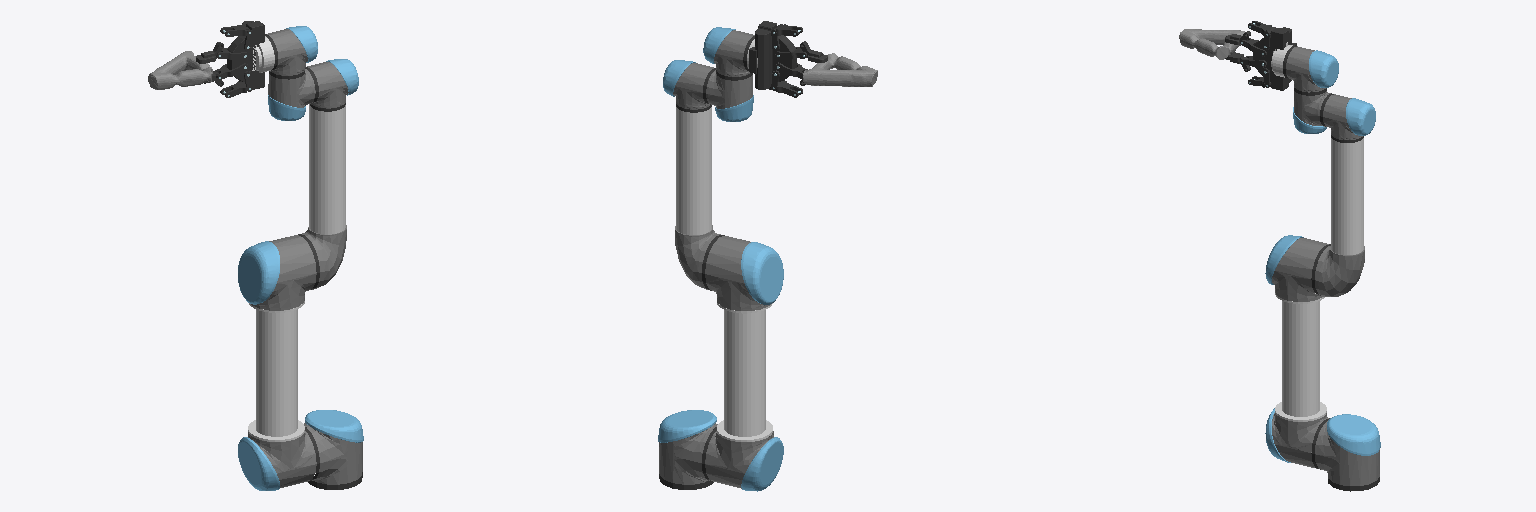
--- Render facts (derived) ---
The picture shows the robot from 3 angles, left to right: view 1: azimuth 30°, elevation 25°; view 2: azimuth 150°, elevation 25°; view 3: azimuth 330°, elevation 25°; orthographic projection.
Model robot_base_respondable with 17 links and 16 joints (10 revolute, 6 continuous), rooted at robot_base, posed every joint at zero.
Visible links, largest first — view 1: link_2_respondable_respondable_respondable_respondable_respondab, link_3_respondable_respondable_respondable_respondable_respondab, link_respondable_respondable_respondable_respondable_respondable, link_5_respondable_respondable_respondable_respondable_respondab, link_4_respondable_respondable_respondable_respondable_respondab, dynamic, robotiq_base_respondable_respondable_respondable_respondable_res; view 2: link_2_respondable_respondable_respondable_respondable_respondab, link_3_respondable_respondable_respondable_respondable_respondab, link_respondable_respondable_respondable_respondable_respondable, link_5_respondable_respondable_respondable_respondable_respondab, link_4_respondable_respondable_respondable_respondable_respondab, robotiq_base_respondable_respondable_respondable_respondable_res, dynamic; view 3: link_2_respondable_respondable_respondable_respondable_respondab, link_3_respondable_respondable_respondable_respondable_respondab, link_respondable_respondable_respondable_respondable_respondable, link_5_respondable_respondable_respondable_respondable_respondab, dynamic, link_4_respondable_respondable_respondable_respondable_respondab, robotiq_base_respondable_respondable_respondable_respondable_res.
Boxes of the visible links, x1=… form: link_2_respondable_respondable_respondable_respondable_respondab: x1=238, y1=234, x2=319, y2=490; link_3_respondable_respondable_respondable_respondable_respondab: x1=301, y1=59, x2=358, y2=289; link_respondable_respondable_respondable_respondable_respondable: x1=304, y1=410, x2=363, y2=484; link_5_respondable_respondable_respondable_respondable_respondab: x1=265, y1=26, x2=317, y2=79; link_4_respondable_respondable_respondable_respondable_respondab: x1=268, y1=67, x2=318, y2=120; dynamic: x1=148, y1=51, x2=212, y2=89; robotiq_base_respondable_respondable_respondable_respondable_res: x1=227, y1=21, x2=264, y2=89; link_2_respondable_respondable_respondable_respondable_respondab: x1=702, y1=235, x2=783, y2=491; link_3_respondable_respondable_respondable_respondable_respondab: x1=663, y1=60, x2=720, y2=289; link_respondable_respondable_respondable_respondable_respondable: x1=658, y1=410, x2=717, y2=484; link_5_respondable_respondable_respondable_respondable_respondab: x1=703, y1=27, x2=754, y2=80; link_4_respondable_respondable_respondable_respondable_respondab: x1=703, y1=67, x2=753, y2=121; robotiq_base_respondable_respondable_respondable_respondable_res: x1=749, y1=21, x2=796, y2=89; dynamic: x1=803, y1=53, x2=877, y2=86; link_2_respondable_respondable_respondable_respondable_respondab: x1=1265, y1=235, x2=1330, y2=468; link_3_respondable_respondable_respondable_respondable_respondab: x1=1315, y1=94, x2=1375, y2=296; link_respondable_respondable_respondable_respondable_respondable: x1=1311, y1=414, x2=1380, y2=485; link_5_respondable_respondable_respondable_respondable_respondab: x1=1283, y1=46, x2=1338, y2=95; dynamic: x1=1179, y1=29, x2=1244, y2=59; link_4_respondable_respondable_respondable_respondable_respondab: x1=1293, y1=91, x2=1333, y2=133; robotiq_base_respondable_respondable_respondable_respondable_res: x1=1253, y1=27, x2=1296, y2=90.
Size in the robot's own frame: 0.4927 by 0.1237 by 1.06 metres.
Meshes: 42 distinct files referenced, 42 mesh visuals loaded (42 Collada DAE).

The robot description file, URDF, robot "robot_base_respondable":
<?xml version="1.0"?>
<robot name="robot_base_respondable">
    <link name="robot_base">
        <collision name="robot_base_respondable">
            <origin xyz="0.000000 0.000000 0.000000" rpy="3.141592 3.141593 -2.552481" />
            <geometry>
                <cylinder length="0.012300089001656" radius="0.056886240839958" />
            </geometry>
        </collision>
        <collision name="robot_base_respondable">
            <origin xyz="0.000000 0.000000 -0.014650" rpy="-3.141592 3.141593 1.747927" />
            <geometry>
                <cylinder length="0.017000352963805" radius="0.072642646729946" />
            </geometry>
        </collision>
        <visual name="robot_base_visual">
            <origin xyz="0.000000 0.000000 -0.008500" rpy="3.141592 3.141593 3.141592" />
            <geometry>
                <mesh filename="models/urdf/ur5_abc_lite/ur5_abc_lite_robot_base_visual_vis_1.dae" />
            </geometry>
            <material name="robot_base_visual_material">
                <color rgba="0.282353 0.282353 0.282353 1.0" />
            </material>
        </visual>
    </link>
    <joint name="joint" type="revolute">
        <axis xyz="0 0 1" />
        <limit upper="6.2831854820251" velocity="1.5707963705063" lower="-6.2831854820251" effort="200.0" />
        <parent link="robot_base" />
        <child link="link_respondable_respondable_respondable_respondable_respondable_respondable" />
        <origin xyz="-0.000000 0.000000 0.000000" rpy="3.141592 3.141593 3.141592" />
    </joint>
    <link name="link_respondable_respondable_respondable_respondable_respondable_respondable">
        <inertial>
            <origin xyz="-0.012312 0.000048 0.066405" rpy="3.141592 3.141593 3.141592" />
            <inertia ixy="8.9516803607533e-05" ixz="0.0024490834762624" ixx="0.095492165355254" izz="0.09818059467752" iyz="-7.9251186174956e-05" iyy="0.10672965841326" />
            <mass value="2.5" />
        </inertial>
        <collision name="link_respondable_respondable_respondable_respondable_respondable_respondable">
            <origin xyz="-0.007178 0.000095 0.070381" rpy="3.141592 3.141593 3.141592" />
            <geometry>
                <mesh filename="models/urdf/ur5_abc_lite/ur5_abc_lite_link_respondable_respondable_respondable_respondable_respondable_respondable_coll_1.dae" />
            </geometry>
        </collision>
        <collision name="link_respondable_respondable_respondable_respondable_respondable_respondable">
            <origin xyz="-0.007178 0.000095 0.070381" rpy="3.141592 3.141593 3.141592" />
            <geometry>
                <mesh filename="models/urdf/ur5_abc_lite/ur5_abc_lite_link_respondable_respondable_respondable_respondable_respondable_respondable_coll_2.dae" />
            </geometry>
        </collision>
        <collision name="link_respondable_respondable_respondable_respondable_respondable_respondable">
            <origin xyz="-0.007178 0.000095 0.070381" rpy="3.141592 3.141593 3.141592" />
            <geometry>
                <mesh filename="models/urdf/ur5_abc_lite/ur5_abc_lite_link_respondable_respondable_respondable_respondable_respondable_respondable_coll_3.dae" />
            </geometry>
        </collision>
        <visual name="link_respondable_respondable_respondable_respondable_respondable_visual">
            <origin xyz="-0.007150 0.000000 0.070335" rpy="3.141592 3.141593 3.141592" />
            <geometry>
                <mesh filename="models/urdf/ur5_abc_lite/ur5_abc_lite_link_respondable_respondable_respondable_respondable_respondable_visual_vis_1.dae" />
            </geometry>
            <material name="link_respondable_respondable_respondable_respondable_respondable_visual_material">
                <color rgba="0.282353 0.282353 0.282353 1.0" />
            </material>
        </visual>
        <visual name="link_respondable_respondable_respondable_respondable_respondable_visual">
            <origin xyz="-0.007150 0.000000 0.070335" rpy="3.141592 3.141593 3.141592" />
            <geometry>
                <mesh filename="models/urdf/ur5_abc_lite/ur5_abc_lite_link_respondable_respondable_respondable_respondable_respondable_visual_vis_2.dae" />
            </geometry>
            <material name="link_respondable_respondable_respondable_respondable_respondable_visual_material">
                <color rgba="0.535294 0.535294 0.535294 1.0" />
            </material>
        </visual>
        <visual name="link_respondable_respondable_respondable_respondable_respondable_visual">
            <origin xyz="-0.007150 0.000000 0.070335" rpy="3.141592 3.141593 3.141592" />
            <geometry>
                <mesh filename="models/urdf/ur5_abc_lite/ur5_abc_lite_link_respondable_respondable_respondable_respondable_respondable_visual_vis_3.dae" />
            </geometry>
            <material name="link_respondable_respondable_respondable_respondable_respondable_visual_material">
                <color rgba="0.508235 0.761224 0.903529 1.0" />
            </material>
        </visual>
    </link>
    <joint name="joint_2" type="revolute">
        <axis xyz="0 0 1" />
        <limit upper="6.2831854820251" velocity="1.5707963705063" lower="-6.2831854820251" effort="200.0" />
        <parent link="link_respondable_respondable_respondable_respondable_respondable_respondable" />
        <child link="link_2_respondable_respondable_respondable_respondable_respondable_respondable" />
        <origin xyz="-0.070300 0.000000 0.066050" rpy="0.000001 -1.570796 0.000000" />
    </joint>
    <link name="link_2_respondable_respondable_respondable_respondable_respondable_respondable">
        <inertial>
            <origin xyz="0.215595 -0.000035 0.063573" rpy="-0.000000 1.570796 0.000000" />
            <inertia ixy="9.2431180680848e-06" ixz="-0.0052638063542259" ixx="0.62573305153059" izz="0.067345368316432" iyz="-0.00017721757850982" iyy="0.63325135224174" />
            <mass value="5.6999998092651" />
        </inertial>
        <collision name="link_2_respondable_respondable_respondable_respondable_respondable_respondable">
            <origin xyz="0.212550 -0.000115 0.064235" rpy="-0.000000 1.570796 0.000000" />
            <geometry>
                <mesh filename="models/urdf/ur5_abc_lite/ur5_abc_lite_link_2_respondable_respondable_respondable_respondable_respondable_respondable_coll_1.dae" />
            </geometry>
        </collision>
        <collision name="link_2_respondable_respondable_respondable_respondable_respondable_respondable">
            <origin xyz="0.212550 -0.000115 0.064235" rpy="-0.000000 1.570796 0.000000" />
            <geometry>
                <mesh filename="models/urdf/ur5_abc_lite/ur5_abc_lite_link_2_respondable_respondable_respondable_respondable_respondable_respondable_coll_2.dae" />
            </geometry>
        </collision>
        <collision name="link_2_respondable_respondable_respondable_respondable_respondable_respondable">
            <origin xyz="0.212550 -0.000115 0.064235" rpy="-0.000000 1.570796 0.000000" />
            <geometry>
                <mesh filename="models/urdf/ur5_abc_lite/ur5_abc_lite_link_2_respondable_respondable_respondable_respondable_respondable_respondable_coll_3.dae" />
            </geometry>
        </collision>
        <collision name="link_2_respondable_respondable_respondable_respondable_respondable_respondable">
            <origin xyz="0.212550 -0.000115 0.064235" rpy="-0.000000 1.570796 0.000000" />
            <geometry>
                <mesh filename="models/urdf/ur5_abc_lite/ur5_abc_lite_link_2_respondable_respondable_respondable_respondable_respondable_respondable_coll_4.dae" />
            </geometry>
        </collision>
        <collision name="link_2_respondable_respondable_respondable_respondable_respondable_respondable">
            <origin xyz="0.212550 -0.000115 0.064235" rpy="-0.000000 1.570796 0.000000" />
            <geometry>
                <mesh filename="models/urdf/ur5_abc_lite/ur5_abc_lite_link_2_respondable_respondable_respondable_respondable_respondable_respondable_coll_5.dae" />
            </geometry>
        </collision>
        <collision name="link_2_respondable_respondable_respondable_respondable_respondable_respondable">
            <origin xyz="0.212550 -0.000115 0.064235" rpy="-0.000000 1.570796 0.000000" />
            <geometry>
                <mesh filename="models/urdf/ur5_abc_lite/ur5_abc_lite_link_2_respondable_respondable_respondable_respondable_respondable_respondable_coll_6.dae" />
            </geometry>
        </collision>
        <collision name="link_2_respondable_respondable_respondable_respondable_respondable_respondable">
            <origin xyz="0.212550 -0.000115 0.064235" rpy="-0.000000 1.570796 0.000000" />
            <geometry>
                <mesh filename="models/urdf/ur5_abc_lite/ur5_abc_lite_link_2_respondable_respondable_respondable_respondable_respondable_respondable_coll_7.dae" />
            </geometry>
        </collision>
        <visual name="link_2_respondable_respondable_respondable_respondable_respondable_visual">
            <origin xyz="0.212550 0.000000 0.064217" rpy="-0.000000 1.570796 0.000000" />
            <geometry>
                <mesh filename="models/urdf/ur5_abc_lite/ur5_abc_lite_link_2_respondable_respondable_respondable_respondable_respondable_visual_vis_1.dae" />
            </geometry>
            <material name="link_2_respondable_respondable_respondable_respondable_respondable_visual_material">
                <color rgba="0.870588 0.870588 0.870588 1.0" />
            </material>
        </visual>
        <visual name="link_2_respondable_respondable_respondable_respondable_respondable_visual">
            <origin xyz="0.212550 0.000000 0.064217" rpy="-0.000000 1.570796 0.000000" />
            <geometry>
                <mesh filename="models/urdf/ur5_abc_lite/ur5_abc_lite_link_2_respondable_respondable_respondable_respondable_respondable_visual_vis_2.dae" />
            </geometry>
            <material name="link_2_respondable_respondable_respondable_respondable_respondable_visual_material">
                <color rgba="0.508235 0.761224 0.903529 1.0" />
            </material>
        </visual>
        <visual name="link_2_respondable_respondable_respondable_respondable_respondable_visual">
            <origin xyz="0.212550 0.000000 0.064217" rpy="-0.000000 1.570796 0.000000" />
            <geometry>
                <mesh filename="models/urdf/ur5_abc_lite/ur5_abc_lite_link_2_respondable_respondable_respondable_respondable_respondable_visual_vis_3.dae" />
            </geometry>
            <material name="link_2_respondable_respondable_respondable_respondable_respondable_visual_material">
                <color rgba="0.535294 0.535294 0.535294 1.0" />
            </material>
        </visual>
        <visual name="link_2_respondable_respondable_respondable_respondable_respondable_visual">
            <origin xyz="0.212550 0.000000 0.064217" rpy="-0.000000 1.570796 0.000000" />
            <geometry>
                <mesh filename="models/urdf/ur5_abc_lite/ur5_abc_lite_link_2_respondable_respondable_respondable_respondable_respondable_visual_vis_4.dae" />
            </geometry>
            <material name="link_2_respondable_respondable_respondable_respondable_respondable_visual_material">
                <color rgba="0.282353 0.282353 0.282353 1.0" />
            </material>
        </visual>
        <visual name="link_2_respondable_respondable_respondable_respondable_respondable_visual">
            <origin xyz="0.212550 0.000000 0.064217" rpy="-0.000000 1.570796 0.000000" />
            <geometry>
                <mesh filename="models/urdf/ur5_abc_lite/ur5_abc_lite_link_2_respondable_respondable_respondable_respondable_respondable_visual_vis_5.dae" />
            </geometry>
            <material name="link_2_respondable_respondable_respondable_respondable_respondable_visual_material">
                <color rgba="0.535294 0.535294 0.535294 1.0" />
            </material>
        </visual>
        <visual name="link_2_respondable_respondable_respondable_respondable_respondable_visual">
            <origin xyz="0.212550 0.000000 0.064217" rpy="-0.000000 1.570796 0.000000" />
            <geometry>
                <mesh filename="models/urdf/ur5_abc_lite/ur5_abc_lite_link_2_respondable_respondable_respondable_respondable_respondable_visual_vis_6.dae" />
            </geometry>
            <material name="link_2_respondable_respondable_respondable_respondable_respondable_visual_material">
                <color rgba="0.508235 0.761224 0.903529 1.0" />
            </material>
        </visual>
    </link>
    <joint name="joint_3" type="revolute">
        <axis xyz="0 0 1" />
        <limit upper="6.2831854820251" velocity="1.5707963705063" lower="-6.2831854820251" effort="200.0" />
        <parent link="link_2_respondable_respondable_respondable_respondable_respondable_respondable" />
        <child link="link_3_respondable_respondable_respondable_respondable_respondable_respondable" />
        <origin xyz="0.425100 -0.000000 0.000000" rpy="3.141593 3.141592 3.141592" />
    </joint>
    <link name="link_3_respondable_respondable_respondable_respondable_respondable_respondable">
        <inertial>
            <origin xyz="0.192773 0.000015 -0.050153" rpy="0.000000 1.570796 0.000000" />
            <inertia ixy="2.2187787147887e-06" ixz="-0.027670910392482" ixx="0.4592564485459" izz="0.035597955537677" iyz="-2.1029099787318e-05" iyy="0.46060709235019" />
            <mass value="3.9000000953674" />
        </inertial>
        <collision name="link_3_respondable_respondable_respondable_respondable_respondable_respondable">
            <origin xyz="0.186773 0.000016 -0.057847" rpy="0.000000 1.570796 0.000000" />
            <geometry>
                <mesh filename="models/urdf/ur5_abc_lite/ur5_abc_lite_link_3_respondable_respondable_respondable_respondable_respondable_respondable_coll_1.dae" />
            </geometry>
        </collision>
        <collision name="link_3_respondable_respondable_respondable_respondable_respondable_respondable">
            <origin xyz="0.186773 0.000016 -0.057847" rpy="0.000000 1.570796 0.000000" />
            <geometry>
                <mesh filename="models/urdf/ur5_abc_lite/ur5_abc_lite_link_3_respondable_respondable_respondable_respondable_respondable_respondable_coll_2.dae" />
            </geometry>
        </collision>
        <collision name="link_3_respondable_respondable_respondable_respondable_respondable_respondable">
            <origin xyz="0.186773 0.000016 -0.057847" rpy="0.000000 1.570796 0.000000" />
            <geometry>
                <mesh filename="models/urdf/ur5_abc_lite/ur5_abc_lite_link_3_respondable_respondable_respondable_respondable_respondable_respondable_coll_3.dae" />
            </geometry>
        </collision>
        <collision name="link_3_respondable_respondable_respondable_respondable_respondable_respondable">
            <origin xyz="0.186773 0.000016 -0.057847" rpy="0.000000 1.570796 0.000000" />
            <geometry>
                <mesh filename="models/urdf/ur5_abc_lite/ur5_abc_lite_link_3_respondable_respondable_respondable_respondable_respondable_respondable_coll_4.dae" />
            </geometry>
        </collision>
        <collision name="link_3_respondable_respondable_respondable_respondable_respondable_respondable">
            <origin xyz="0.186773 0.000016 -0.057847" rpy="0.000000 1.570796 0.000000" />
            <geometry>
                <mesh filename="models/urdf/ur5_abc_lite/ur5_abc_lite_link_3_respondable_respondable_respondable_respondable_respondable_respondable_coll_5.dae" />
            </geometry>
        </collision>
        <visual name="link_3_respondable_respondable_respondable_respondable_respondable_visual">
            <origin xyz="0.186650 -0.000000 -0.057850" rpy="0.000000 1.570796 0.000000" />
            <geometry>
                <mesh filename="models/urdf/ur5_abc_lite/ur5_abc_lite_link_3_respondable_respondable_respondable_respondable_respondable_visual_vis_1.dae" />
            </geometry>
            <material name="link_3_respondable_respondable_respondable_respondable_respondable_visual_material">
                <color rgba="0.870588 0.870588 0.870588 1.0" />
            </material>
        </visual>
        <visual name="link_3_respondable_respondable_respondable_respondable_respondable_visual">
            <origin xyz="0.186650 -0.000000 -0.057850" rpy="0.000000 1.570796 0.000000" />
            <geometry>
                <mesh filename="models/urdf/ur5_abc_lite/ur5_abc_lite_link_3_respondable_respondable_respondable_respondable_respondable_visual_vis_2.dae" />
            </geometry>
            <material name="link_3_respondable_respondable_respondable_respondable_respondable_visual_material">
                <color rgba="0.535294 0.535294 0.535294 1.0" />
            </material>
        </visual>
        <visual name="link_3_respondable_respondable_respondable_respondable_respondable_visual">
            <origin xyz="0.186650 -0.000000 -0.057850" rpy="0.000000 1.570796 0.000000" />
            <geometry>
                <mesh filename="models/urdf/ur5_abc_lite/ur5_abc_lite_link_3_respondable_respondable_respondable_respondable_respondable_visual_vis_3.dae" />
            </geometry>
            <material name="link_3_respondable_respondable_respondable_respondable_respondable_visual_material">
                <color rgba="0.508235 0.761224 0.903529 1.0" />
            </material>
        </visual>
        <visual name="link_3_respondable_respondable_respondable_respondable_respondable_visual">
            <origin xyz="0.186650 -0.000000 -0.057850" rpy="0.000000 1.570796 0.000000" />
            <geometry>
                <mesh filename="models/urdf/ur5_abc_lite/ur5_abc_lite_link_3_respondable_respondable_respondable_respondable_respondable_visual_vis_4.dae" />
            </geometry>
            <material name="link_3_respondable_respondable_respondable_respondable_respondable_visual_material">
                <color rgba="0.282353 0.282353 0.282353 1.0" />
            </material>
        </visual>
        <visual name="link_3_respondable_respondable_respondable_respondable_respondable_visual">
            <origin xyz="0.186650 -0.000000 -0.057850" rpy="0.000000 1.570796 0.000000" />
            <geometry>
                <mesh filename="models/urdf/ur5_abc_lite/ur5_abc_lite_link_3_respondable_respondable_respondable_respondable_respondable_visual_vis_5.dae" />
            </geometry>
            <material name="link_3_respondable_respondable_respondable_respondable_respondable_visual_material">
                <color rgba="0.535294 0.535294 0.535294 1.0" />
            </material>
        </visual>
    </link>
    <joint name="joint_4" type="revolute">
        <axis xyz="0 0 1" />
        <limit upper="6.2831854820251" velocity="1.5707963705063" lower="-6.2831854820251" effort="200.0" />
        <parent link="link_3_respondable_respondable_respondable_respondable_respondable_respondable" />
        <child link="link_4_respondable_respondable_respondable_respondable_respondable_respondable" />
        <origin xyz="0.392150 -0.000000 0.000000" rpy="3.141593 3.141592 3.141592" />
    </joint>
    <link name="link_4_respondable_respondable_respondable_respondable_respondable_respondable">
        <inertial>
            <origin xyz="-0.005517 -0.000003 0.030943" rpy="0.000000 1.570796 0.000000" />
            <inertia ixy="3.1976010243315e-06" ixz="-0.0020900872562349" ixx="0.10017005794782" izz="0.087106483494915" iyz="-1.791527123899e-05" iyy="0.11466452218562" />
            <mass value="2.5" />
        </inertial>
        <collision name="link_4_respondable_respondable_respondable_respondable_respondable_respondable">
            <origin xyz="-0.007501 -0.000045 0.032830" rpy="0.000000 1.570796 0.000000" />
            <geometry>
                <mesh filename="models/urdf/ur5_abc_lite/ur5_abc_lite_link_4_respondable_respondable_respondable_respondable_respondable_respondable_coll_1.dae" />
            </geometry>
        </collision>
        <collision name="link_4_respondable_respondable_respondable_respondable_respondable_respondable">
            <origin xyz="-0.007501 -0.000045 0.032830" rpy="0.000000 1.570796 0.000000" />
            <geometry>
                <mesh filename="models/urdf/ur5_abc_lite/ur5_abc_lite_link_4_respondable_respondable_respondable_respondable_respondable_respondable_coll_2.dae" />
            </geometry>
        </collision>
        <collision name="link_4_respondable_respondable_respondable_respondable_respondable_respondable">
            <origin xyz="-0.007501 -0.000045 0.032830" rpy="0.000000 1.570796 0.000000" />
            <geometry>
                <mesh filename="models/urdf/ur5_abc_lite/ur5_abc_lite_link_4_respondable_respondable_respondable_respondable_respondable_respondable_coll_3.dae" />
            </geometry>
        </collision>
        <visual name="link_4_respondable_respondable_respondable_respondable_respondable_visual">
            <origin xyz="-0.007500 0.000000 0.032800" rpy="0.000000 1.570796 0.000000" />
            <geometry>
                <mesh filename="models/urdf/ur5_abc_lite/ur5_abc_lite_link_4_respondable_respondable_respondable_respondable_respondable_visual_vis_1.dae" />
            </geometry>
            <material name="link_4_respondable_respondable_respondable_respondable_respondable_visual_material">
                <color rgba="0.282353 0.282353 0.282353 1.0" />
            </material>
        </visual>
        <visual name="link_4_respondable_respondable_respondable_respondable_respondable_visual">
            <origin xyz="-0.007500 0.000000 0.032800" rpy="0.000000 1.570796 0.000000" />
            <geometry>
                <mesh filename="models/urdf/ur5_abc_lite/ur5_abc_lite_link_4_respondable_respondable_respondable_respondable_respondable_visual_vis_2.dae" />
            </geometry>
            <material name="link_4_respondable_respondable_respondable_respondable_respondable_visual_material">
                <color rgba="0.535294 0.535294 0.535294 1.0" />
            </material>
        </visual>
        <visual name="link_4_respondable_respondable_respondable_respondable_respondable_visual">
            <origin xyz="-0.007500 0.000000 0.032800" rpy="0.000000 1.570796 0.000000" />
            <geometry>
                <mesh filename="models/urdf/ur5_abc_lite/ur5_abc_lite_link_4_respondable_respondable_respondable_respondable_respondable_visual_vis_3.dae" />
            </geometry>
            <material name="link_4_respondable_respondable_respondable_respondable_respondable_visual_material">
                <color rgba="0.508235 0.761224 0.903529 1.0" />
            </material>
        </visual>
    </link>
    <joint name="joint_5" type="revolute">
        <axis xyz="0 0 1" />
        <limit upper="6.2831854820251" velocity="1.5707963705063" lower="-6.2831854820251" effort="200.0" />
        <parent link="link_4_respondable_respondable_respondable_respondable_respondable_respondable" />
        <child link="link_5_respondable_respondable_respondable_respondable_respondable_respondable" />
        <origin xyz="0.045575 -0.000000 0.039700" rpy="2.596272 1.570799 2.596272" />
    </joint>
    <link name="link_5_respondable_respondable_respondable_respondable_respondable_respondable">
        <inertial>
            <origin xyz="0.002100 0.000002 0.040669" rpy="3.141592 3.141593 3.141592" />
            <inertia ixy="-1.5531769026879e-05" ixz="-0.00073245390311674" ixx="0.08179215416809" izz="0.1041509279002" iyz="3.8714712477568e-06" iyy="0.11739579576874" />
            <mass value="2.5" />
        </inertial>
        <collision name="link_5_respondable_respondable_respondable_respondable_respondable_respondable">
            <origin xyz="0.003601 0.000045 0.042305" rpy="3.141592 3.141593 3.141592" />
            <geometry>
                <mesh filename="models/urdf/ur5_abc_lite/ur5_abc_lite_link_5_respondable_respondable_respondable_respondable_respondable_respondable_coll_1.dae" />
            </geometry>
        </collision>
        <collision name="link_5_respondable_respondable_respondable_respondable_respondable_respondable">
            <origin xyz="0.003601 0.000045 0.042305" rpy="3.141592 3.141593 3.141592" />
            <geometry>
                <mesh filename="models/urdf/ur5_abc_lite/ur5_abc_lite_link_5_respondable_respondable_respondable_respondable_respondable_respondable_coll_2.dae" />
            </geometry>
        </collision>
        <collision name="link_5_respondable_respondable_respondable_respondable_respondable_respondable">
            <origin xyz="0.003601 0.000045 0.042305" rpy="3.141592 3.141593 3.141592" />
            <geometry>
                <mesh filename="models/urdf/ur5_abc_lite/ur5_abc_lite_link_5_respondable_respondable_respondable_respondable_respondable_respondable_coll_3.dae" />
            </geometry>
        </collision>
        <visual name="link_5_respondable_respondable_respondable_respondable_respondable_visual">
            <origin xyz="0.003600 -0.000000 0.042275" rpy="3.141592 3.141593 3.141592" />
            <geometry>
                <mesh filename="models/urdf/ur5_abc_lite/ur5_abc_lite_link_5_respondable_respondable_respondable_respondable_respondable_visual_vis_1.dae" />
            </geometry>
            <material name="link_5_respondable_respondable_respondable_respondable_respondable_visual_material">
                <color rgba="0.535294 0.535294 0.535294 1.0" />
            </material>
        </visual>
        <visual name="link_5_respondable_respondable_respondable_respondable_respondable_visual">
            <origin xyz="0.003600 -0.000000 0.042275" rpy="3.141592 3.141593 3.141592" />
            <geometry>
                <mesh filename="models/urdf/ur5_abc_lite/ur5_abc_lite_link_5_respondable_respondable_respondable_respondable_respondable_visual_vis_2.dae" />
            </geometry>
            <material name="link_5_respondable_respondable_respondable_respondable_respondable_visual_material">
                <color rgba="0.508235 0.761224 0.903529 1.0" />
            </material>
        </visual>
        <visual name="link_5_respondable_respondable_respondable_respondable_respondable_visual">
            <origin xyz="0.003600 -0.000000 0.042275" rpy="3.141592 3.141593 3.141592" />
            <geometry>
                <mesh filename="models/urdf/ur5_abc_lite/ur5_abc_lite_link_5_respondable_respondable_respondable_respondable_respondable_visual_vis_3.dae" />
            </geometry>
            <material name="link_5_respondable_respondable_respondable_respondable_respondable_visual_material">
                <color rgba="0.282353 0.282353 0.282353 1.0" />
            </material>
        </visual>
        <visual name="link_5_respondable_respondable_respondable_respondable_respondable_visual">
            <origin xyz="0.003600 -0.000000 0.042275" rpy="3.141592 3.141593 3.141592" />
            <geometry>
                <mesh filename="models/urdf/ur5_abc_lite/ur5_abc_lite_link_5_respondable_respondable_respondable_respondable_respondable_visual_vis_4.dae" />
            </geometry>
            <material name="link_5_respondable_respondable_respondable_respondable_respondable_visual_material">
                <color rgba="0.282353 0.282353 0.282353 1.0" />
            </material>
        </visual>
    </link>
    <joint name="joint_6" type="revolute">
        <axis xyz="0 0 1" />
        <limit upper="6.2831854820251" velocity="1.5707963705063" lower="-6.2831854820251" effort="200.0" />
        <parent link="link_5_respondable_respondable_respondable_respondable_respondable_respondable" />
        <child link="link_6_respondable_respondable_respondable_respondable_respondable_respondable" />
        <origin xyz="0.014425 -0.000000 0.049175" rpy="-3.141592 4.712385 -3.141592" />
    </joint>
    <link name="link_6_respondable_respondable_respondable_respondable_respondable_respondable">
        <inertial>
            <origin xyz="0.000000 0.000000 0.076675" rpy="-3.141593 3.141593 3.141592" />
            <inertia ixy="-5.1232196104835e-48" ixz="-2.0432933882088e-25" ixx="0.0058406852103875" izz="0.010054638677955" iyz="2.0432933875776e-25" iyy="0.0058406852103875" />
            <mass value="0.69999998807907" />
        </inertial>
        <collision name="link_6_respondable_respondable_respondable_respondable_respondable_respondable">
            <origin xyz="0.000000 0.000000 0.076675" rpy="-3.141593 3.141593 3.141592" />
            <geometry>
                <cylinder length="0.025500684976578" radius="0.036602452397346" />
            </geometry>
        </collision>
        <visual name="link_6_respondable_respondable_respondable_respondable_respondable_visual">
            <origin xyz="0.003860 -0.000000 0.080425" rpy="0.000001 1.570796 0.000000" />
            <geometry>
                <mesh filename="models/urdf/ur5_abc_lite/ur5_abc_lite_link_6_respondable_respondable_respondable_respondable_respondable_visual_vis_1.dae" />
            </geometry>
            <material name="link_6_respondable_respondable_respondable_respondable_respondable_visual_material">
                <color rgba="0.870588 0.870588 0.870588 1.0" />
            </material>
        </visual>
    </link>
    <joint name="joint_6_2" type="revolute">
        <axis xyz="0 0 1" />
        <limit upper="6.2831854820251" velocity="1.5707963705063" lower="-6.2831854820251" effort="200.0" />
        <parent link="link_6_respondable_respondable_respondable_respondable_respondable_respondable" />
        <child link="robotiq_base_respondable_respondable_respondable_respondable_respondable_respondable" />
        <origin xyz="0.014425 0.000000 0.049175" rpy="1.569831 4.712382 -1.569831" />
    </joint>
    <link name="robotiq_base_respondable_respondable_respondable_respondable_respondable_respondable">
        <inertial>
            <origin xyz="0.043899 0.008350 0.012000" rpy="1.570796 3.141592 -3.141591" />
            <inertia ixy="-3.0779821975945e-10" ixz="3.003181387601e-05" ixx="0.00070222511049253" izz="0.00072521695233332" iyz="-2.9619775595086e-11" iyy="0.00024588701243668" />
            <mass value="0.5" />
        </inertial>
        <collision name="robotiq_base_respondable_respondable_respondable_respondable_respondable_respondable">
            <origin xyz="0.030000 0.010000 0.012000" rpy="1.570796 3.141592 -3.141591" />
            <geometry>
                <box size="0.017463 0.050800 0.057938" />
            </geometry>
        </collision>
        <collision name="robotiq_base_respondable_respondable_respondable_respondable_respondable_respondable">
            <origin xyz="0.083032 -0.004681 0.012000" rpy="3.141592 3.141592 -3.141591" />
            <geometry>
                <box size="0.040000 0.020600 0.040000" />
            </geometry>
        </collision>
        <collision name="robotiq_base_respondable_respondable_respondable_respondable_respondable_respondable">
            <origin xyz="0.041272 0.009924 0.012000" rpy="-0.000001 3.141592 -3.141591" />
            <geometry>
                <box size="0.030480 0.051435 0.139700" />
            </geometry>
        </collision>
        <visual name="robotiq_base_respondable_respondable_respondable_respondable_respondable_visual">
            <origin xyz="0.062151 0.010000 0.012000" rpy="-0.000010 1.570796 0.000000" />
            <geometry>
                <mesh filename="models/urdf/ur5_abc_lite/ur5_abc_lite_robotiq_base_respondable_respondable_respondable_respondable_respondable_visual_vis_1.dae" />
            </geometry>
            <material name="robotiq_base_respondable_respondable_respondable_respondable_respondable_visual_material">
                <color rgba="0.282317 0.282389 0.282389 1.0" />
            </material>
        </visual>
        <visual name="robotiq_base_respondable_respondable_respondable_respondable_respondable_visual">
            <origin xyz="0.062151 0.010000 0.012000" rpy="-0.000010 1.570796 0.000000" />
            <geometry>
                <mesh filename="models/urdf/ur5_abc_lite/ur5_abc_lite_robotiq_base_respondable_respondable_respondable_respondable_respondable_visual_vis_2.dae" />
            </geometry>
            <material name="robotiq_base_respondable_respondable_respondable_respondable_respondable_visual_material">
                <color rgba="1.000000 1.000000 1.000000 1.0" />
            </material>
        </visual>
    </link>
    <joint name="joint_6_3" type="revolute">
        <axis xyz="0 0 1" />
        <limit upper="6.2831854820251" velocity="1.5707963705063" lower="-6.2831854820251" effort="200.0" />
        <parent link="robotiq_base_respondable_respondable_respondable_respondable_respondable_respondable" />
        <child link="dynamic" />
        <origin xyz="0.030000 0.010000 0.012000" rpy="1.570754 3.141589 -1.570804" />
    </joint>
    <link name="dynamic">
        <collision name="dynamic_respondable">
            <origin xyz="-0.010002 0.001441 -0.182320" rpy="-0.000000 3.141631 -1.570801" />
            <geometry>
                <mesh filename="models/urdf/ur5_abc_lite/ur5_abc_lite_dynamic_vis_1.dae" />
            </geometry>
        </collision>
        <visual name="dynamic">
            <origin xyz="-0.010002 0.001441 -0.182320" rpy="-0.000000 3.141631 -1.570801" />
            <geometry>
                <mesh filename="models/urdf/ur5_abc_lite/ur5_abc_lite_dynamic_vis_1.dae" />
            </geometry>
            <material name="dynamic_material">
                <color rgba="0.600000 0.600000 0.600000 1.0" />
            </material>
        </visual>
    </link>
    <joint name="Rjoint1" type="revolute">
        <axis xyz="0 0 1" />
        <limit upper="0.78539818525314" velocity="0.69813168048859" lower="0.0" effort="1.0" />
        <parent link="robotiq_base_respondable_respondable_respondable_respondable_respondable_respondable" />
        <child link="Rfinger_respondable_respondable_respondable_respondable_respondable_respondable" />
        <origin xyz="0.074600 -0.004681 -0.000738" rpy="-1.365597 1.570798 -2.936391" />
    </joint>
    <link name="Rfinger_respondable_respondable_respondable_respondable_respondable_respondable">
        <inertial>
            <origin xyz="0.005488 0.027095 -0.000010" rpy="1.570973 3.138398 -0.197315" />
            <inertia ixy="2.8300690834922e-21" ixz="2.1062598132683e-20" ixx="3.4844272621657e-05" izz="7.6569405819033e-06" iyz="2.6073848673186e-20" iyy="2.9984947551464e-05" />
            <mass value="0.10000000149012" />
        </inertial>
        <collision name="Rfinger_respondable_respondable_respondable_respondable_respondable_respondable">
            <origin xyz="0.005488 0.027095 -0.000010" rpy="1.570973 3.138398 -0.197315" />
            <geometry>
                <box size="0.015803 0.033427 0.071444" />
            </geometry>
        </collision>
        <visual name="Rfinger_respondable_respondable_respondable_respondable_respondable_visual">
            <origin xyz="0.005488 0.027095 -0.000010" rpy="1.570973 3.138398 -0.197315" />
            <geometry>
                <mesh filename="models/urdf/ur5_abc_lite/ur5_abc_lite_Rfinger_respondable_respondable_respondable_respondable_respondable_visual_vis_1.dae" />
            </geometry>
            <material name="Rfinger_respondable_respondable_respondable_respondable_respondable_visual_material">
                <color rgba="0.282317 0.282389 0.282389 1.0" />
            </material>
        </visual>
        <visual name="Rfinger_respondable_respondable_respondable_respondable_respondable_visual">
            <origin xyz="0.005488 0.027095 -0.000010" rpy="1.570973 3.138398 -0.197315" />
            <geometry>
                <mesh filename="models/urdf/ur5_abc_lite/ur5_abc_lite_Rfinger_respondable_respondable_respondable_respondable_respondable_visual_vis_2.dae" />
            </geometry>
            <material name="Rfinger_respondable_respondable_respondable_respondable_respondable_visual_material">
                <color rgba="0.837524 0.970755 1.000000 1.0" />
            </material>
        </visual>
    </link>
    <joint name="Rjoint2" type="continuous">
        <axis xyz="0 0 1" />
        <parent link="Rfinger_respondable_respondable_respondable_respondable_respondable_respondable" />
        <child link="RfingerTip_respondable_respondable_respondable_respondable_respondable_respondable" />
        <origin xyz="0.011178 0.055908 -0.000005" rpy="3.141588 3.141599 -2.617992" />
    </joint>
    <link name="RfingerTip_respondable_respondable_respondable_respondable_respondable_respondable">
        <inertial>
            <origin xyz="0.011427 0.016336 0.000003" rpy="1.570807 3.141584 2.617863" />
            <inertia ixy="-1.5997928581758e-09" ixz="9.351945982435e-06" ixx="3.0898972527854e-05" izz="1.0653877098426e-05" iyz="3.040203109114e-09" iyy="3.3094096464058e-05" />
            <mass value="0.10000000149012" />
        </inertial>
        <collision name="RfingerTip_respondable_respondable_respondable_respondable_respondable_respondable">
            <origin xyz="0.011082 0.025433 0.000005" rpy="1.570807 3.141584 2.617863" />
            <geometry>
                <box size="0.009509 0.025404 0.036832" />
            </geometry>
        </collision>
        <collision name="RfingerTip_respondable_respondable_respondable_respondable_respondable_respondable">
            <origin xyz="0.014106 0.016939 0.000003" rpy="-1.570950 3.141603 -0.523730" />
            <geometry>
                <box size="0.008509 0.014223 0.025144" />
            </geometry>
        </collision>
        <collision name="RfingerTip_respondable_respondable_respondable_respondable_respondable_respondable">
            <origin xyz="0.009791 -0.010308 -0.000000" rpy="2.669909 1.571059 -1.519009" />
            <geometry>
                <box size="0.011078 0.012672 0.022135" />
            </geometry>
        </collision>
        <visual name="RfingerTip_respondable_respondable_respondable_respondable_respondable_visual">
            <origin xyz="0.015278 0.010303 0.000004" rpy="1.570938 3.141584 2.617889" />
            <geometry>
                <mesh filename="models/urdf/ur5_abc_lite/ur5_abc_lite_RfingerTip_respondable_respondable_respondable_respondable_respondable_visual_vis_1.dae" />
            </geometry>
            <material name="RfingerTip_respondable_respondable_respondable_respondable_respondable_visual_material">
                <color rgba="0.282317 0.282389 0.282389 1.0" />
            </material>
        </visual>
        <visual name="RfingerTip_respondable_respondable_respondable_respondable_respondable_visual">
            <origin xyz="0.015278 0.010303 0.000004" rpy="1.570938 3.141584 2.617889" />
            <geometry>
                <mesh filename="models/urdf/ur5_abc_lite/ur5_abc_lite_RfingerTip_respondable_respondable_respondable_respondable_respondable_visual_vis_2.dae" />
            </geometry>
            <material name="RfingerTip_respondable_respondable_respondable_respondable_respondable_visual_material">
                <color rgba="0.305882 0.305882 0.305882 1.0" />
            </material>
        </visual>
    </link>
    <joint name="RactiveJoint" type="continuous">
        <axis xyz="0 0 1" />
        <parent link="robotiq_base_respondable_respondable_respondable_respondable_respondable_respondable" />
        <child link="RauxLink1Visible_visual_visual_visual_visual_visual_visual" />
        <origin xyz="0.067942 -0.004681 -0.018601" rpy="-1.365597 1.570798 -2.936391" />
    </joint>
    <link name="RauxLink1Visible_visual_visual_visual_visual_visual_visual">
        <visual name="RauxLink1Visible_visual_visual_visual_visual_visual_visual">
            <origin xyz="0.014963 -0.001623 0.000001" rpy="-1.570931 3.141677 -1.674482" />
            <geometry>
                <mesh filename="models/urdf/ur5_abc_lite/ur5_abc_lite_RauxLink1Visible_visual_visual_visual_visual_visual_visual_vis_1.dae" />
            </geometry>
            <material name="RauxLink1Visible_visual_visual_visual_visual_visual_visual_material">
                <color rgba="0.282317 0.282389 0.282389 1.0" />
            </material>
        </visual>
        <visual name="RauxLink1Visible_visual_visual_visual_visual_visual_visual">
            <origin xyz="0.014963 -0.001623 0.000001" rpy="-1.570931 3.141677 -1.674482" />
            <geometry>
                <mesh filename="models/urdf/ur5_abc_lite/ur5_abc_lite_RauxLink1Visible_visual_visual_visual_visual_visual_visual_vis_2.dae" />
            </geometry>
            <material name="RauxLink1Visible_visual_visual_visual_visual_visual_visual_material">
                <color rgba="0.837524 0.970755 1.000000 1.0" />
            </material>
        </visual>
    </link>
    <joint name="RauxJoint2" type="continuous">
        <axis xyz="0 0 1" />
        <parent link="RauxLink1Visible_visual_visual_visual_visual_visual_visual" />
        <child link="RauxLink2Visible_visual_visual_visual_visual_visual_visual" />
        <origin xyz="0.031465 -0.004244 0.000000" rpy="-3.141592 3.141593 -3.141592" />
    </joint>
    <link name="RauxLink2Visible_visual_visual_visual_visual_visual_visual">
        <visual name="RauxLink2Visible_visual_visual_visual_visual_visual_visual">
            <origin xyz="0.003104 0.023609 0.000000" rpy="-1.570795 3.141585 -0.130688" />
            <geometry>
                <mesh filename="models/urdf/ur5_abc_lite/ur5_abc_lite_RauxLink2Visible_visual_visual_visual_visual_visual_visual_vis_1.dae" />
            </geometry>
            <material name="RauxLink2Visible_visual_visual_visual_visual_visual_visual_material">
                <color rgba="0.282317 0.282389 0.282389 1.0" />
            </material>
        </visual>
        <visual name="RauxLink2Visible_visual_visual_visual_visual_visual_visual">
            <origin xyz="0.003104 0.023609 0.000000" rpy="-1.570795 3.141585 -0.130688" />
            <geometry>
                <mesh filename="models/urdf/ur5_abc_lite/ur5_abc_lite_RauxLink2Visible_visual_visual_visual_visual_visual_visual_vis_2.dae" />
            </geometry>
            <material name="RauxLink2Visible_visual_visual_visual_visual_visual_visual_material">
                <color rgba="0.837524 0.970755 1.000000 1.0" />
            </material>
        </visual>
    </link>
    <joint name="Ljoint1" type="revolute">
        <axis xyz="0 0 1" />
        <limit upper="0.78539818525314" velocity="0.69813168048859" lower="0.0" effort="1.0" />
        <parent link="robotiq_base_respondable_respondable_respondable_respondable_respondable_respondable" />
        <child link="Lfinger_respondable_respondable_respondable_respondable_respondable_respondable" />
        <origin xyz="0.074600 -0.004681 0.024736" rpy="-1.570793 -1.570796 0.000000" />
    </joint>
    <link name="Lfinger_respondable_respondable_respondable_respondable_respondable_respondable">
        <inertial>
            <origin xyz="0.005488 0.027096 0.000000" rpy="1.570973 3.138400 -0.197320" />
            <inertia ixy="5.9165832030089e-21" ixz="1.4177316404393e-20" ixx="3.4844272621657e-05" izz="7.6569405819033e-06" iyz="3.1849061849001e-20" iyy="2.9984947551464e-05" />
            <mass value="0.10000000149012" />
        </inertial>
        <collision name="Lfinger_respondable_respondable_respondable_respondable_respondable_respondable">
            <origin xyz="0.005488 0.027096 0.000000" rpy="1.570973 3.138400 -0.197320" />
            <geometry>
                <box size="0.015803 0.033427 0.071444" />
            </geometry>
        </collision>
        <visual name="Lfinger_respondable_respondable_respondable_respondable_respondable_visual">
            <origin xyz="0.005488 0.027096 0.000000" rpy="1.570973 3.138400 -0.197320" />
            <geometry>
                <mesh filename="models/urdf/ur5_abc_lite/ur5_abc_lite_Lfinger_respondable_respondable_respondable_respondable_respondable_visual_vis_1.dae" />
            </geometry>
            <material name="Lfinger_respondable_respondable_respondable_respondable_respondable_visual_material">
                <color rgba="0.282317 0.282389 0.282389 1.0" />
            </material>
        </visual>
        <visual name="Lfinger_respondable_respondable_respondable_respondable_respondable_visual">
            <origin xyz="0.005488 0.027096 0.000000" rpy="1.570973 3.138400 -0.197320" />
            <geometry>
                <mesh filename="models/urdf/ur5_abc_lite/ur5_abc_lite_Lfinger_respondable_respondable_respondable_respondable_respondable_visual_vis_2.dae" />
            </geometry>
            <material name="Lfinger_respondable_respondable_respondable_respondable_respondable_visual_material">
                <color rgba="0.837524 0.970755 1.000000 1.0" />
            </material>
        </visual>
    </link>
    <joint name="Ljoint2" type="continuous">
        <axis xyz="0 0 1" />
        <parent link="Lfinger_respondable_respondable_respondable_respondable_respondable_respondable" />
        <child link="LfingerTip_respondable_respondable_respondable_respondable_respondable_respondable" />
        <origin xyz="0.011178 0.055909 0.000005" rpy="3.141589 3.141598 -2.617995" />
    </joint>
    <link name="LfingerTip_respondable_respondable_respondable_respondable_respondable_respondable">
        <inertial>
            <origin xyz="0.011428 0.016336 -0.000007" rpy="1.570786 3.141585 2.618120" />
            <inertia ixy="-1.599790949334e-09" ixz="9.3519319562104e-06" ixx="3.0898985486283e-05" izz="1.0653864139997e-05" iyz="3.0402050629753e-09" iyy="3.3094096464058e-05" />
            <mass value="0.10000000149012" />
        </inertial>
        <collision name="LfingerTip_respondable_respondable_respondable_respondable_respondable_respondable">
            <origin xyz="0.011081 0.025434 -0.000005" rpy="1.570786 3.141585 2.618120" />
            <geometry>
                <box size="0.009509 0.025404 0.036832" />
            </geometry>
        </collision>
        <collision name="LfingerTip_respondable_respondable_respondable_respondable_respondable_respondable">
            <origin xyz="0.014107 0.016941 -0.000006" rpy="-1.570929 3.141602 -0.523473" />
            <geometry>
                <box size="0.008509 0.014223 0.025144" />
            </geometry>
        </collision>
        <collision name="LfingerTip_respondable_respondable_respondable_respondable_respondable_respondable">
            <origin xyz="0.009799 -0.010306 -0.000009" rpy="2.711576 1.571041 -1.477086" />
            <geometry>
                <box size="0.011078 0.012672 0.022135" />
            </geometry>
        </collision>
        <visual name="LfingerTip_respondable_respondable_respondable_respondable_respondable_visual">
            <origin xyz="0.015281 0.010303 -0.000006" rpy="1.570917 3.141585 2.618145" />
            <geometry>
                <mesh filename="models/urdf/ur5_abc_lite/ur5_abc_lite_LfingerTip_respondable_respondable_respondable_respondable_respondable_visual_vis_1.dae" />
            </geometry>
            <material name="LfingerTip_respondable_respondable_respondable_respondable_respondable_visual_material">
                <color rgba="0.282317 0.282389 0.282389 1.0" />
            </material>
        </visual>
        <visual name="LfingerTip_respondable_respondable_respondable_respondable_respondable_visual">
            <origin xyz="0.015281 0.010303 -0.000006" rpy="1.570917 3.141585 2.618145" />
            <geometry>
                <mesh filename="models/urdf/ur5_abc_lite/ur5_abc_lite_LfingerTip_respondable_respondable_respondable_respondable_respondable_visual_vis_2.dae" />
            </geometry>
            <material name="LfingerTip_respondable_respondable_respondable_respondable_respondable_visual_material">
                <color rgba="0.305882 0.305882 0.305882 1.0" />
            </material>
        </visual>
    </link>
    <joint name="LactiveJoint" type="continuous">
        <axis xyz="0 0 1" />
        <parent link="robotiq_base_respondable_respondable_respondable_respondable_respondable_respondable" />
        <child link="LauxLink1Visible_visual_visual_visual_visual_visual_visual" />
        <origin xyz="0.067942 -0.004681 0.042599" rpy="-1.570793 -1.570796 0.000000" />
    </joint>
    <link name="LauxLink1Visible_visual_visual_visual_visual_visual_visual">
        <visual name="LauxLink1Visible_visual_visual_visual_visual_visual_visual">
            <origin xyz="0.014963 -0.001623 0.000001" rpy="-1.570931 3.141677 -1.674482" />
            <geometry>
                <mesh filename="models/urdf/ur5_abc_lite/ur5_abc_lite_LauxLink1Visible_visual_visual_visual_visual_visual_visual_vis_1.dae" />
            </geometry>
            <material name="LauxLink1Visible_visual_visual_visual_visual_visual_visual_material">
                <color rgba="0.282317 0.282389 0.282389 1.0" />
            </material>
        </visual>
        <visual name="LauxLink1Visible_visual_visual_visual_visual_visual_visual">
            <origin xyz="0.014963 -0.001623 0.000001" rpy="-1.570931 3.141677 -1.674482" />
            <geometry>
                <mesh filename="models/urdf/ur5_abc_lite/ur5_abc_lite_LauxLink1Visible_visual_visual_visual_visual_visual_visual_vis_2.dae" />
            </geometry>
            <material name="LauxLink1Visible_visual_visual_visual_visual_visual_visual_material">
                <color rgba="0.837524 0.970755 1.000000 1.0" />
            </material>
        </visual>
    </link>
    <joint name="LauxJoint2" type="continuous">
        <axis xyz="0 0 1" />
        <parent link="LauxLink1Visible_visual_visual_visual_visual_visual_visual" />
        <child link="LauxLink2Visible_visual_visual_visual_visual_visual_visual" />
        <origin xyz="0.031465 -0.004244 -0.000000" rpy="3.141592 3.141593 -3.141592" />
    </joint>
    <link name="LauxLink2Visible_visual_visual_visual_visual_visual_visual">
        <visual name="LauxLink2Visible_visual_visual_visual_visual_visual_visual">
            <origin xyz="0.003104 0.023609 -0.000000" rpy="-1.570795 3.141585 -0.130688" />
            <geometry>
                <mesh filename="models/urdf/ur5_abc_lite/ur5_abc_lite_LauxLink2Visible_visual_visual_visual_visual_visual_visual_vis_1.dae" />
            </geometry>
            <material name="LauxLink2Visible_visual_visual_visual_visual_visual_visual_material">
                <color rgba="0.282317 0.282389 0.282389 1.0" />
            </material>
        </visual>
        <visual name="LauxLink2Visible_visual_visual_visual_visual_visual_visual">
            <origin xyz="0.003104 0.023609 -0.000000" rpy="-1.570795 3.141585 -0.130688" />
            <geometry>
                <mesh filename="models/urdf/ur5_abc_lite/ur5_abc_lite_LauxLink2Visible_visual_visual_visual_visual_visual_visual_vis_2.dae" />
            </geometry>
            <material name="LauxLink2Visible_visual_visual_visual_visual_visual_visual_material">
                <color rgba="0.837524 0.970755 1.000000 1.0" />
            </material>
        </visual>
    </link>
</robot>
